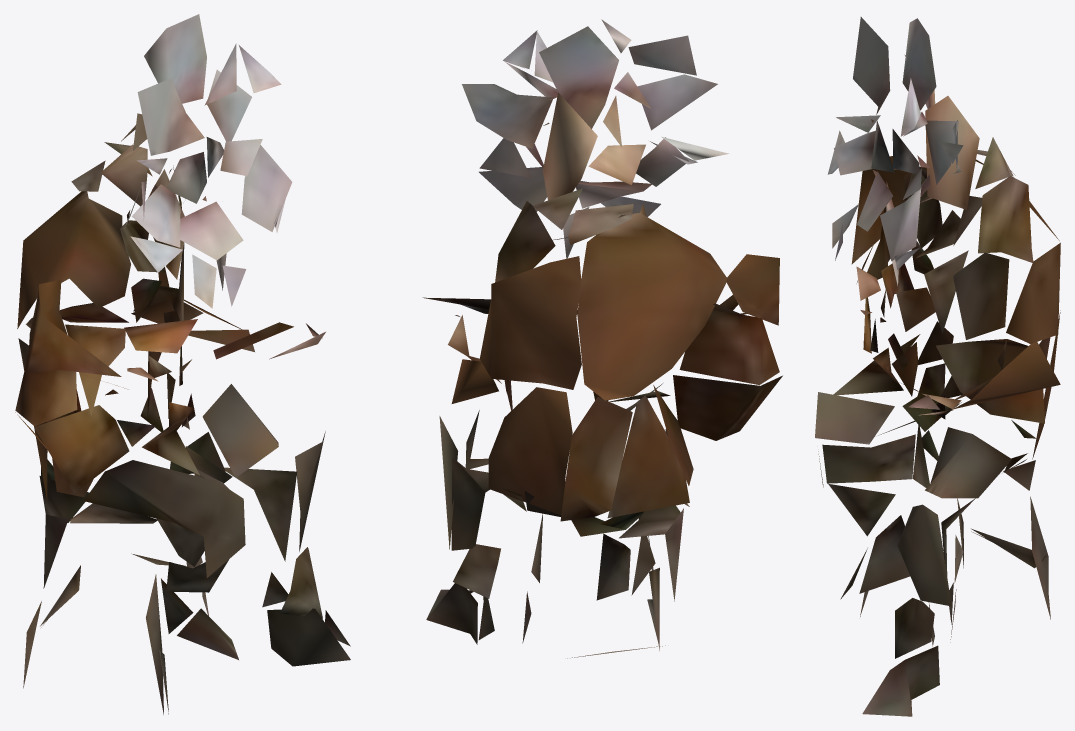
Rendered from seat_folksinger_far.glb.
The picture shows the model from 3 angles, left to right: view 1: azimuth 30°, elevation 25°; view 2: azimuth 150°, elevation 25°; view 3: azimuth 270°, elevation 25°; orthographic projection. The views are drawn at different scales.
Parts seen in each view (by area): view 1: tripo_node_506e7adc-c99f-441d-aa60-8759da290647; view 2: tripo_node_506e7adc-c99f-441d-aa60-8759da290647; view 3: tripo_node_506e7adc-c99f-441d-aa60-8759da290647.
Part boxes in pixels (x1,y1,x2,y2): tripo_node_506e7adc-c99f-441d-aa60-8759da290647: (15, 14, 350, 714); tripo_node_506e7adc-c99f-441d-aa60-8759da290647: (422, 19, 782, 658); tripo_node_506e7adc-c99f-441d-aa60-8759da290647: (815, 17, 1060, 716).
Bounding box in the file's own units: 0.5461 × 0.9646 × 0.3508.
Materials: 1 (1 with a texture image).
